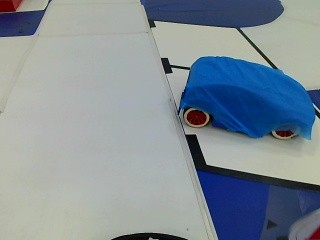car: (171, 56, 313, 145)
